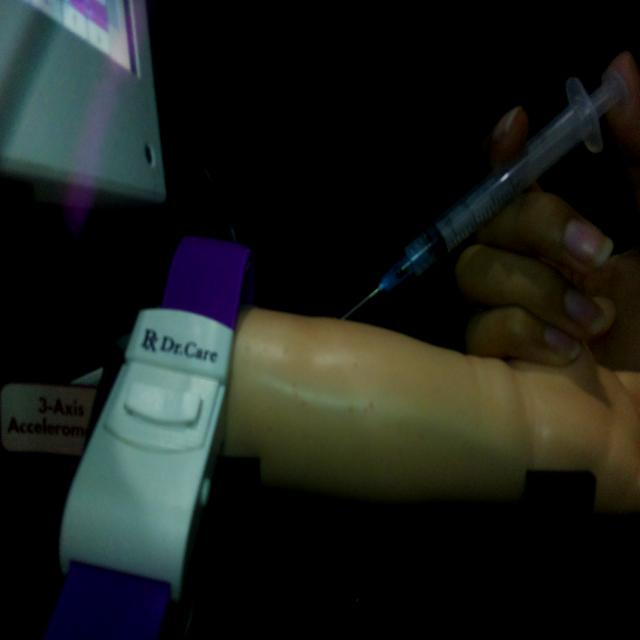30 degrees: (333, 60, 629, 328)
